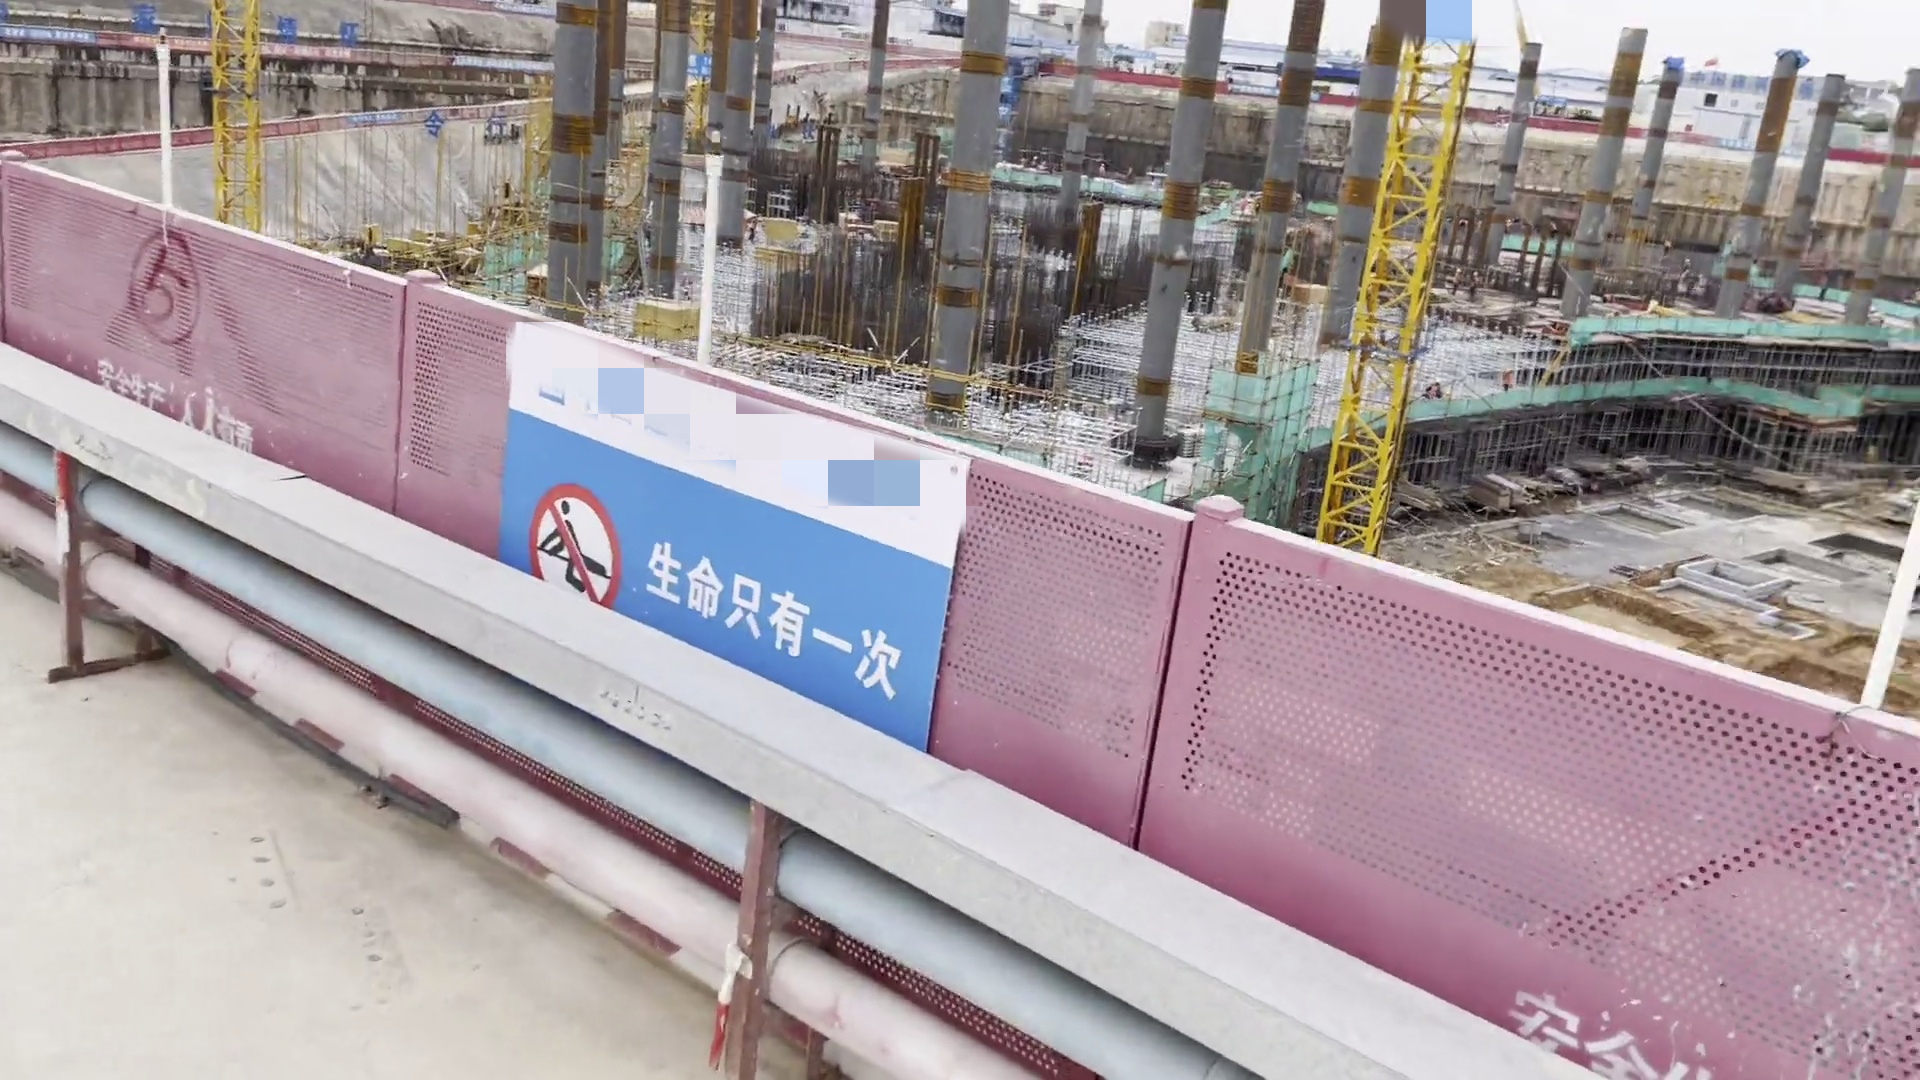brick: (1658, 560, 1792, 616), (1618, 502, 1687, 526)
fence: (790, 392, 1335, 1007), (1303, 545, 1920, 1080), (323, 262, 810, 760), (3, 145, 344, 489)
scaffold: (1175, 415, 1211, 462)
slogan: (479, 313, 992, 771), (998, 73, 1030, 173), (673, 45, 735, 88)
wood: (625, 293, 704, 343), (524, 261, 550, 295)
